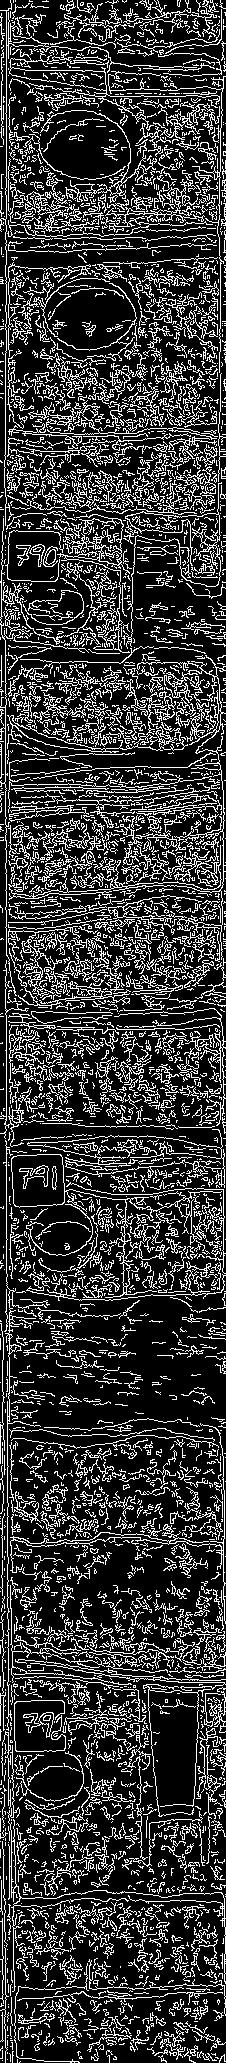hplug: (14, 559, 99, 642), (14, 1742, 101, 1820), (22, 1196, 102, 1278)
scal: (32, 268, 154, 370), (33, 97, 156, 197)
vplug: (133, 1678, 215, 1870), (110, 510, 201, 659), (116, 1189, 198, 1296)
